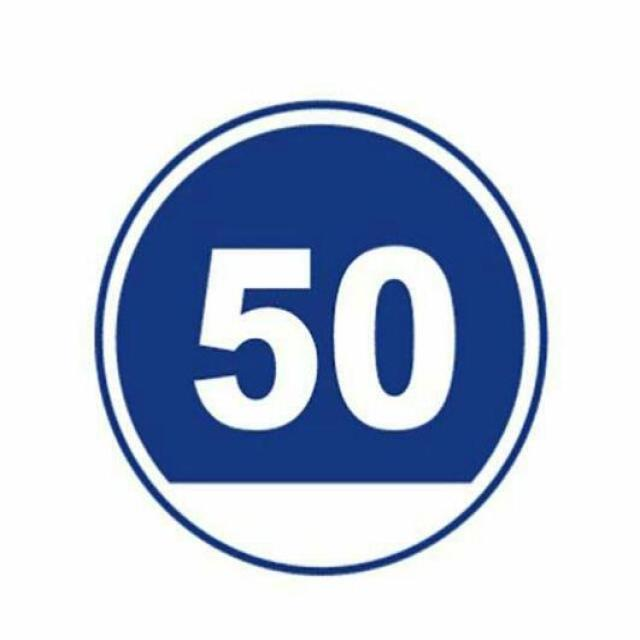speed limit 50: (87, 99, 550, 574)
